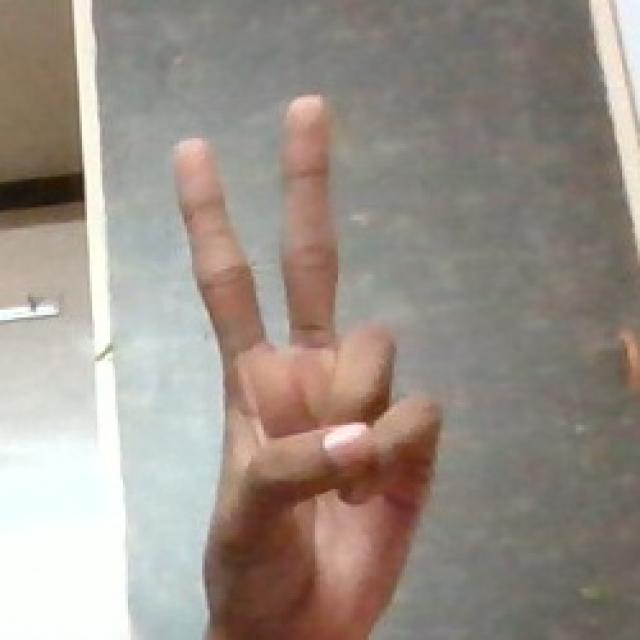Numeric-2: (172, 89, 444, 638)
